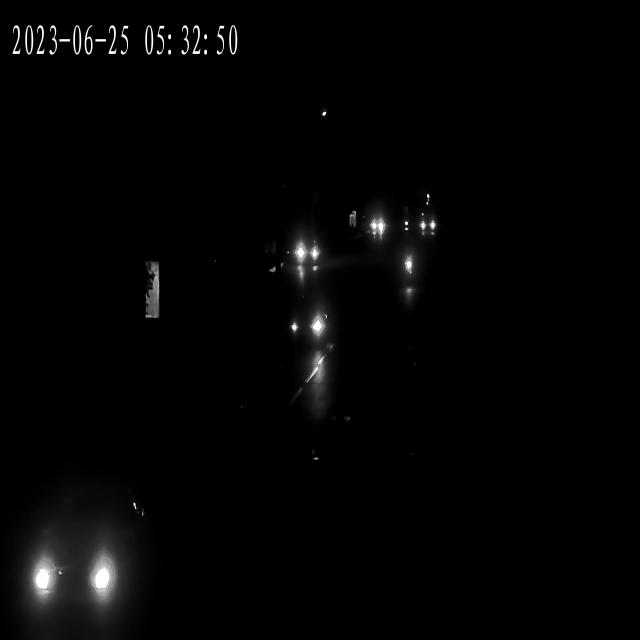Car: (18, 468, 144, 640), (285, 297, 333, 356), (288, 224, 327, 270), (413, 202, 439, 242), (368, 208, 396, 242), (401, 246, 422, 285)
